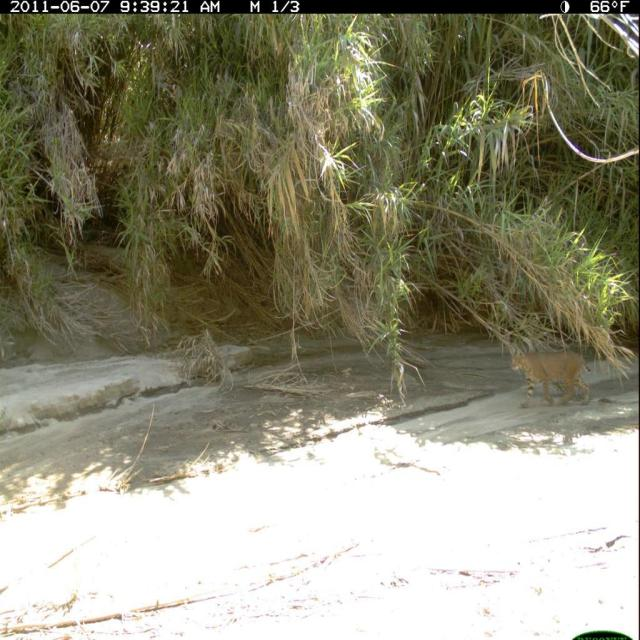bobcat: (506, 340, 595, 410)
